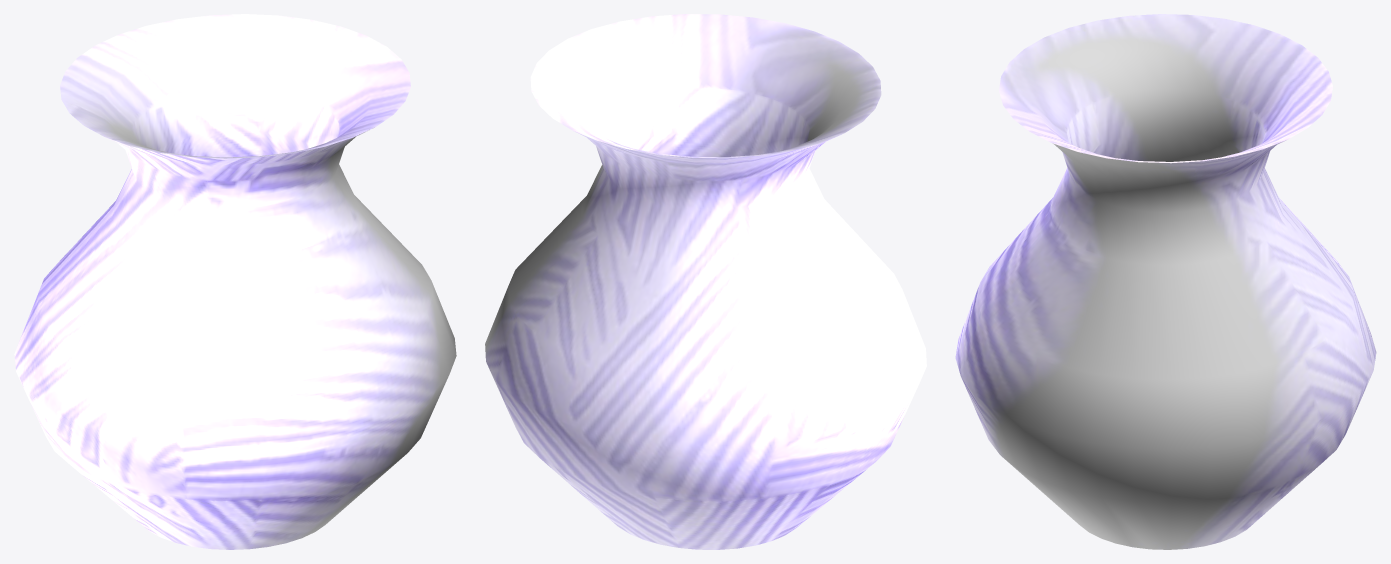
Rendered from vaso2.glb.
3 views of the same model, side by side, from view 1: azimuth 30°, elevation 25°; view 2: azimuth 150°, elevation 25°; view 3: azimuth 270°, elevation 25° (orthographic).
Parts seen in each view (by area): view 1: vaso mensola 2 - baked; view 2: vaso mensola 2 - baked; view 3: vaso mensola 2 - baked.
Part boxes in pixels (bbox=[...]): vaso mensola 2 - baked: bbox=[14, 14, 456, 549]; vaso mensola 2 - baked: bbox=[485, 14, 926, 549]; vaso mensola 2 - baked: bbox=[955, 14, 1376, 549].
Size of the model in its own units: 27.64 by 28.73 by 26.16.
